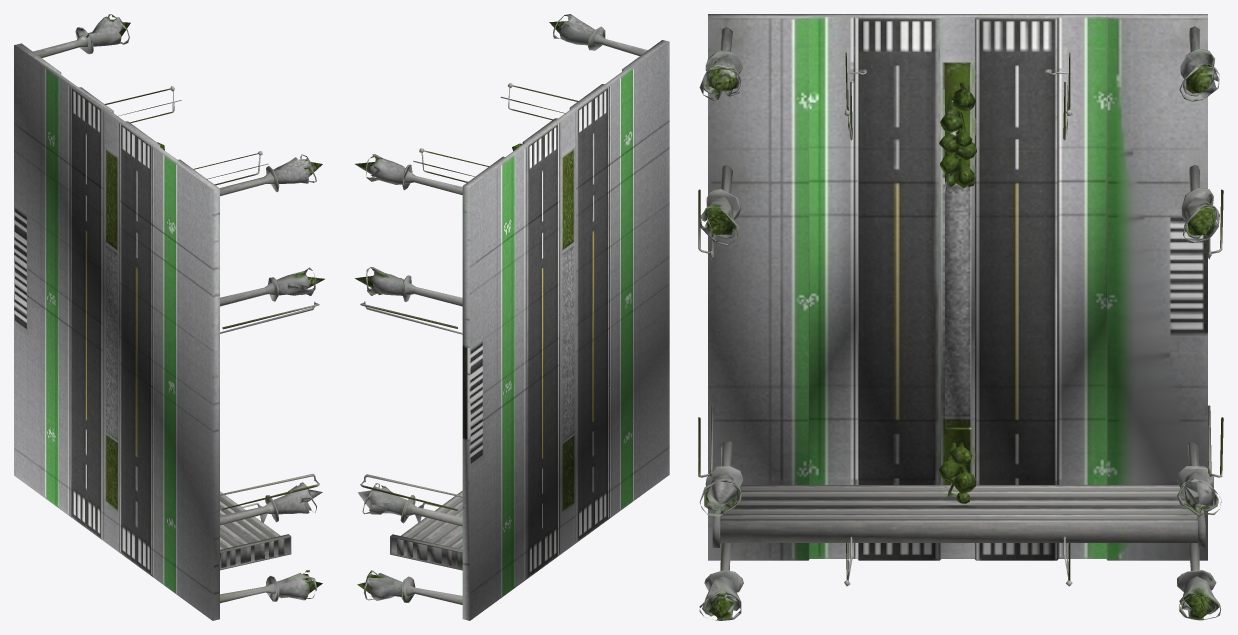
File: city+street+3d+model (1).glb
The picture shows the model from 3 angles, left to right: view 1: azimuth 30°, elevation 25°; view 2: azimuth 150°, elevation 25°; view 3: azimuth 270°, elevation 25°; orthographic projection. The views are drawn at different scales.
Parts seen in each view (by area): view 1: tripo_node_eea43fc3-a4a5-4e72-b931-df26693f4e96; view 2: tripo_node_eea43fc3-a4a5-4e72-b931-df26693f4e96; view 3: tripo_node_eea43fc3-a4a5-4e72-b931-df26693f4e96.
Part boxes in pixels (left/top/right/bottom): tripo_node_eea43fc3-a4a5-4e72-b931-df26693f4e96: left=14, top=14, right=324, bottom=620; tripo_node_eea43fc3-a4a5-4e72-b931-df26693f4e96: left=355, top=14, right=669, bottom=620; tripo_node_eea43fc3-a4a5-4e72-b931-df26693f4e96: left=698, top=14, right=1223, bottom=620.
Size of the model in its own units: 0.2754 by 0.998 by 0.8574.
1 material, 1 textured.
